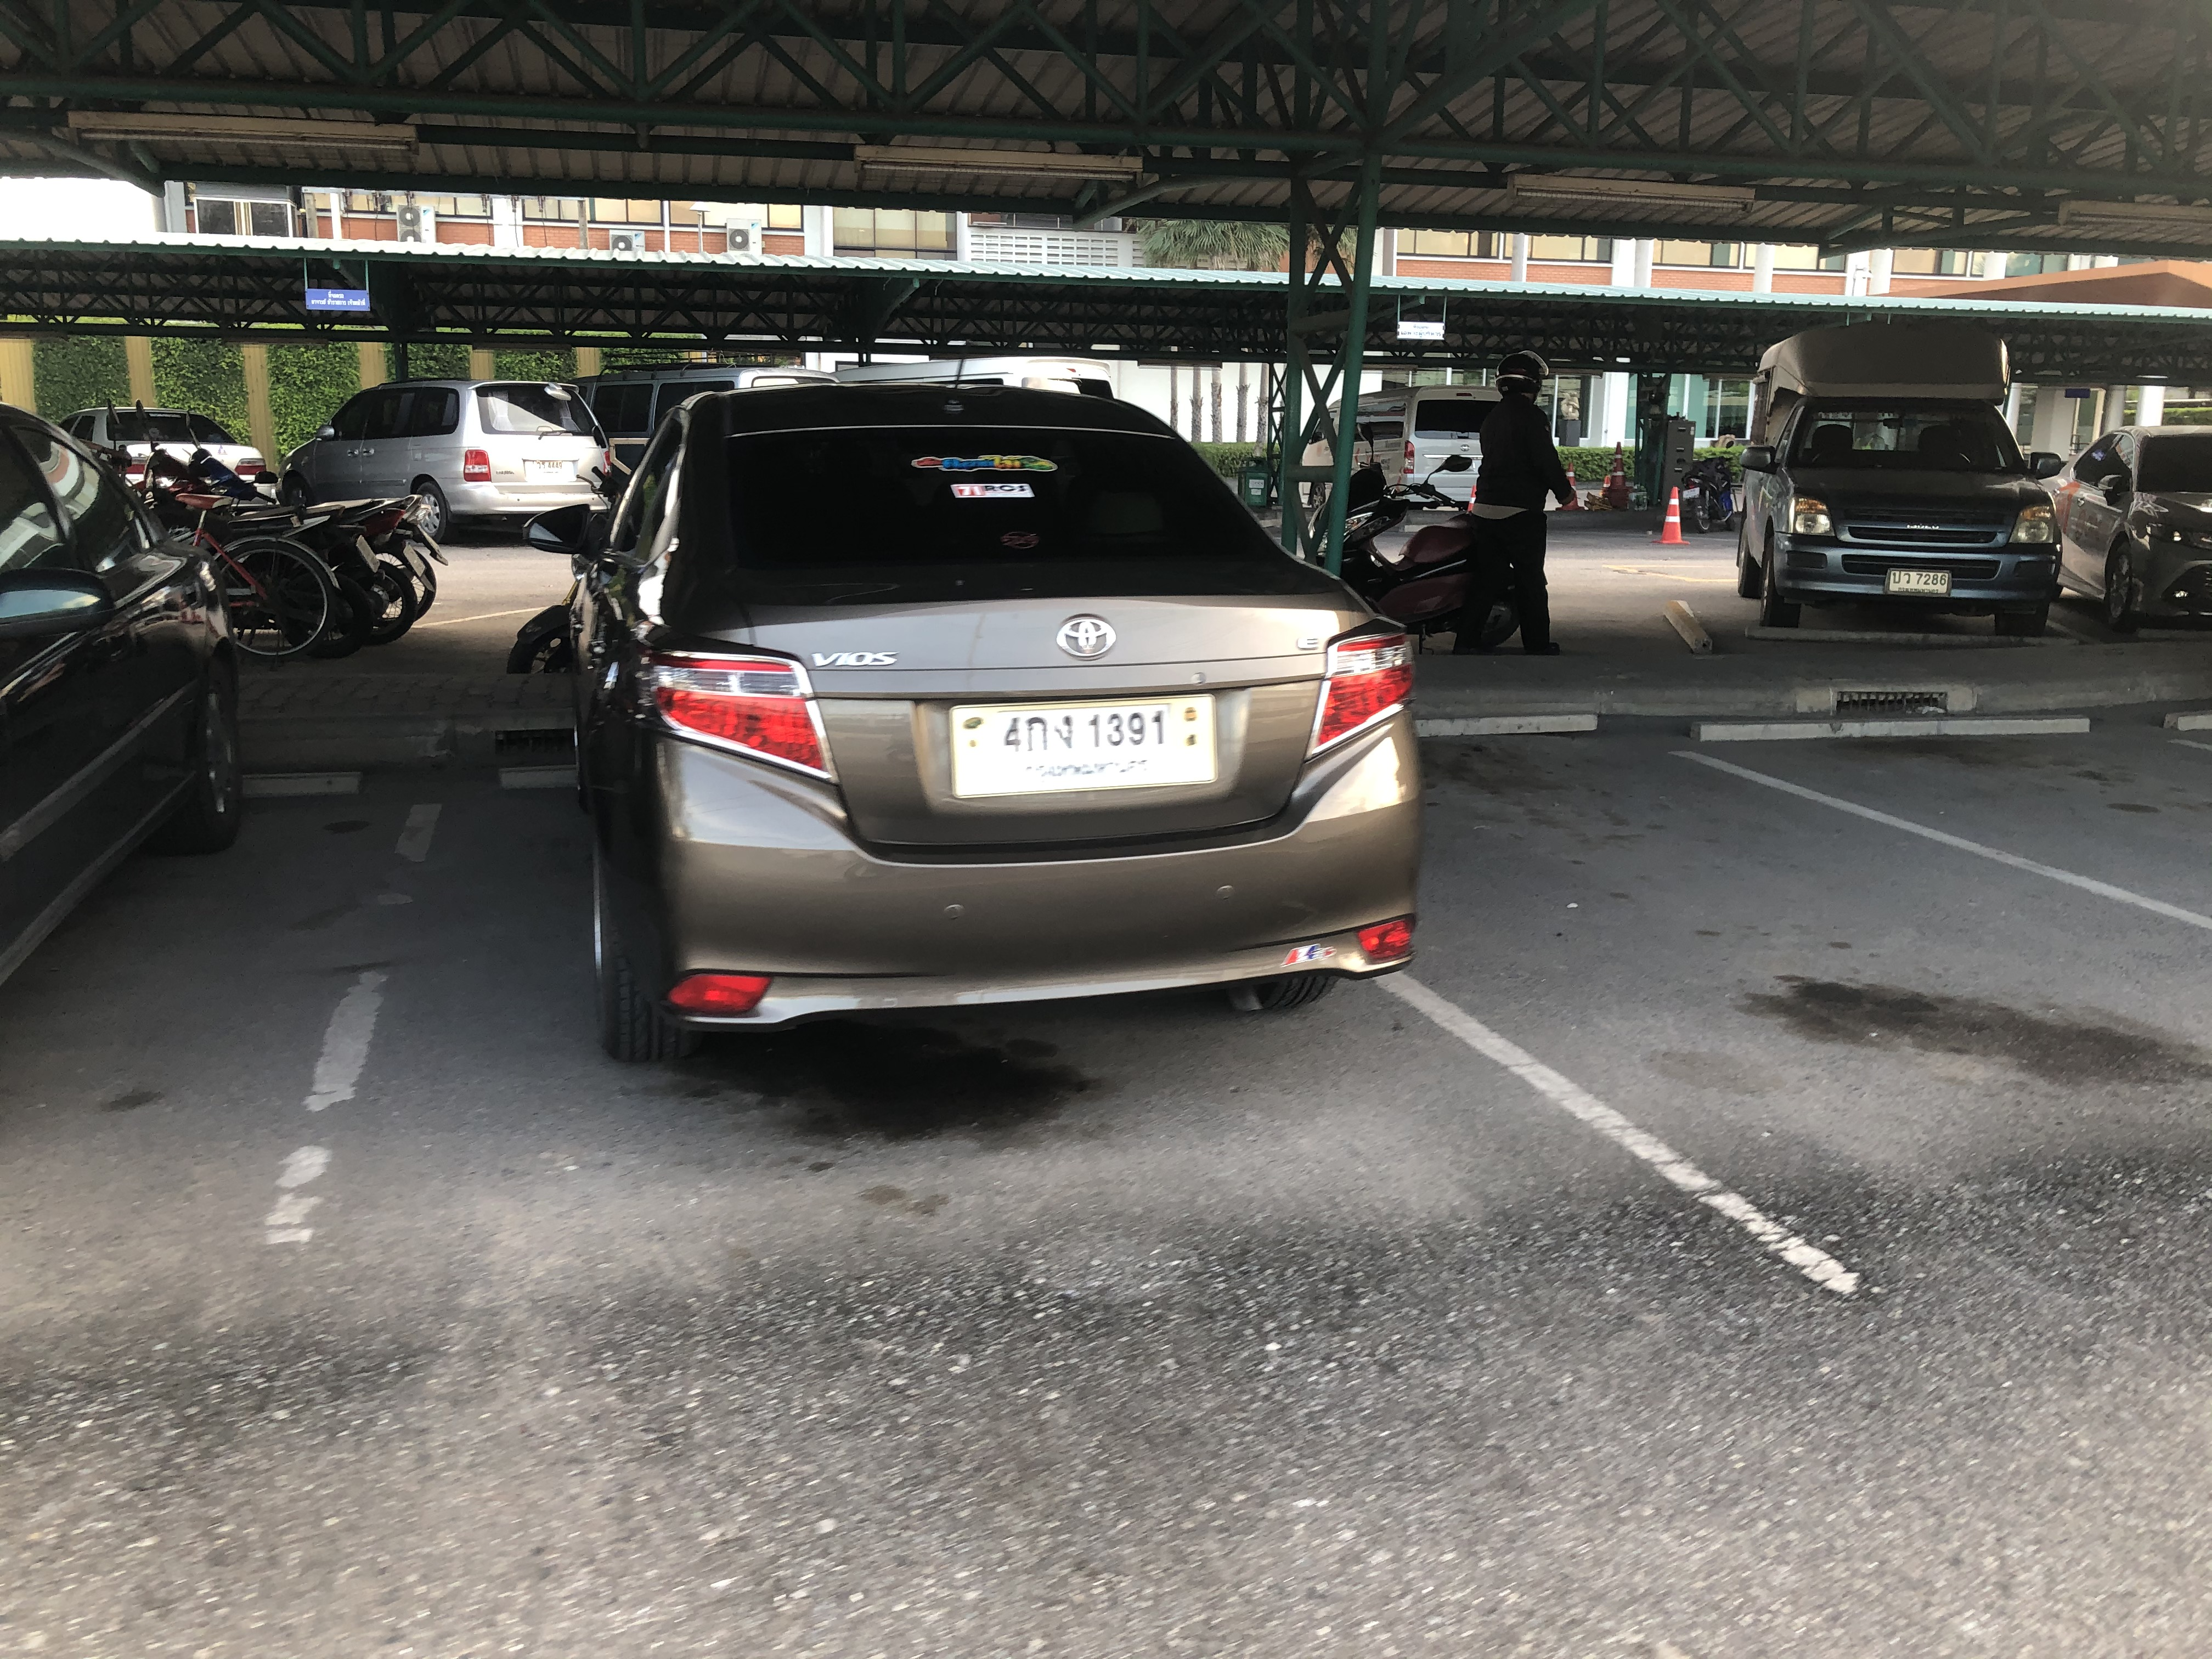in: (1000, 708, 1167, 784)
out: (948, 695, 1221, 798)
